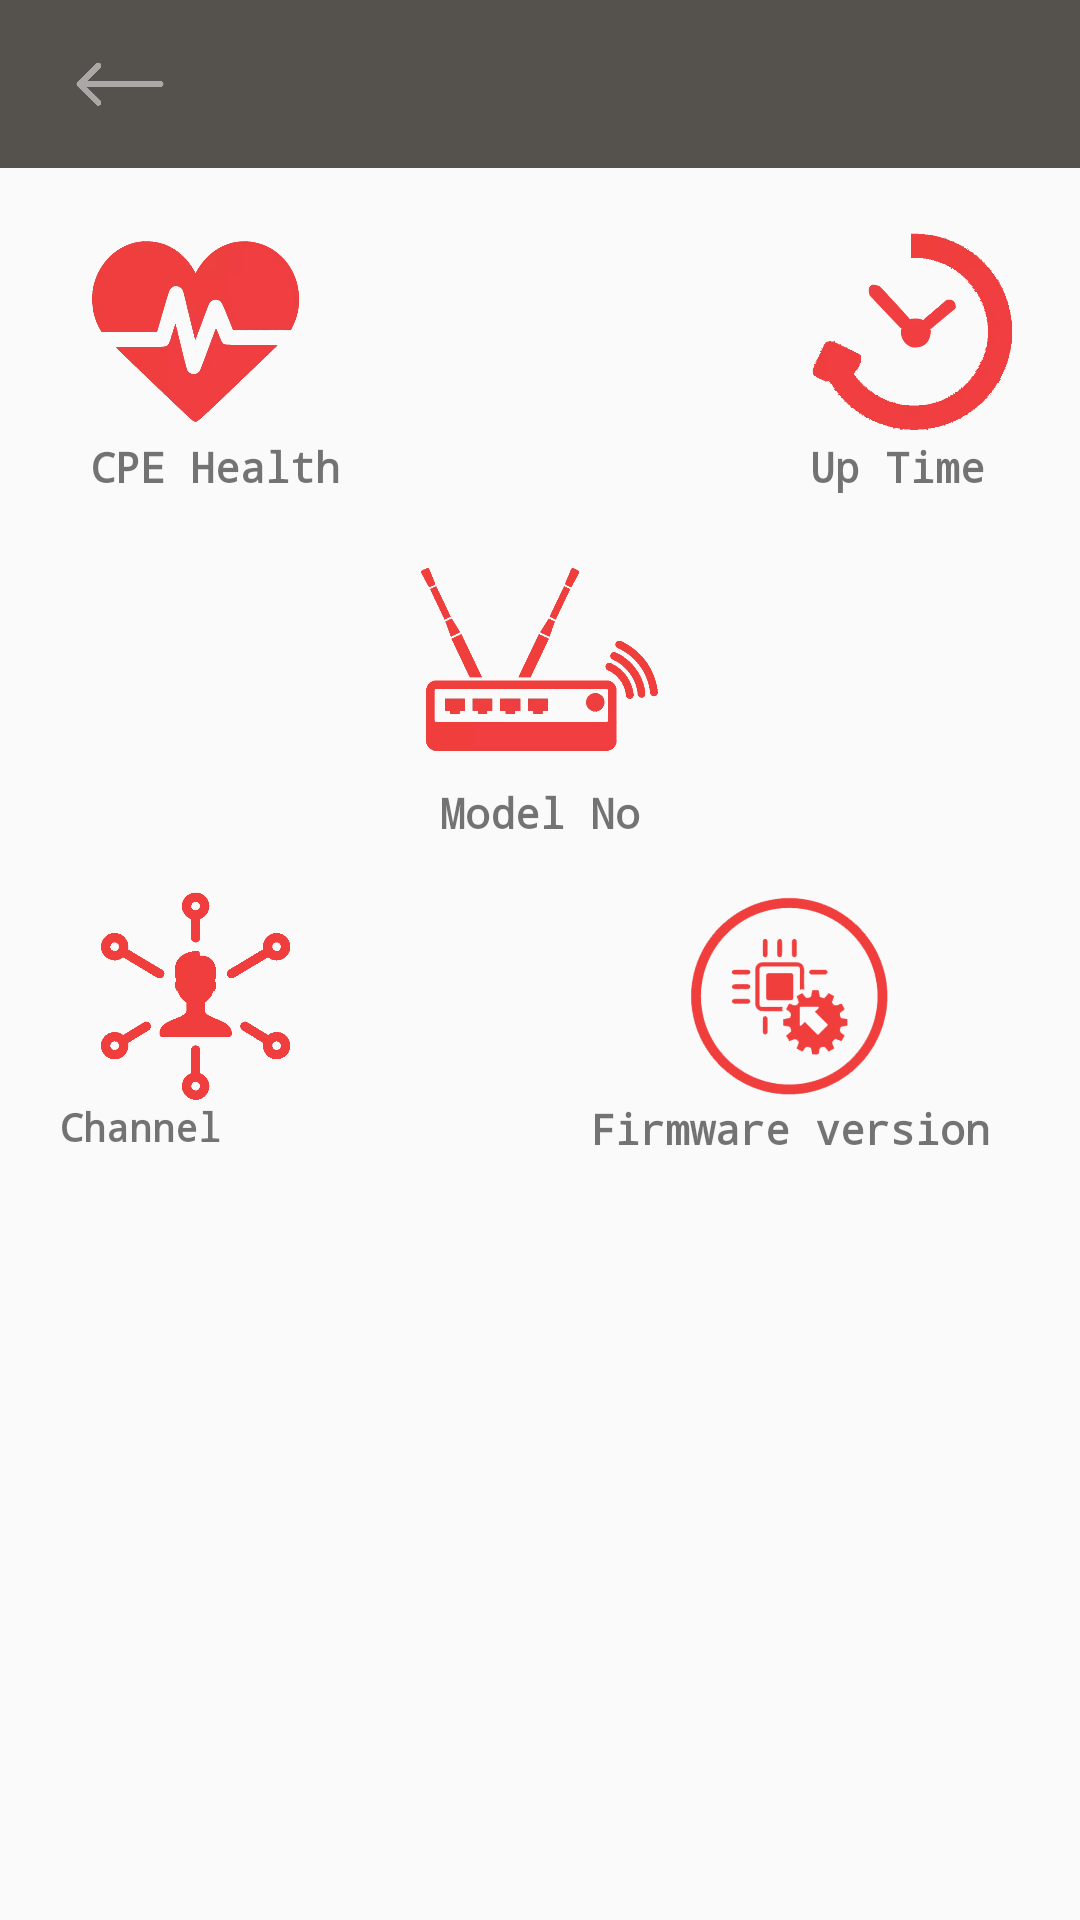

Where to tap for icons on this 1080px x 1920px app screen, as (x,y):
back: (120,84)
